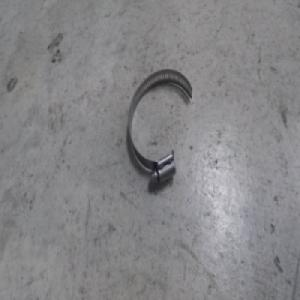AdjustableClamp: (127, 67, 192, 183)
